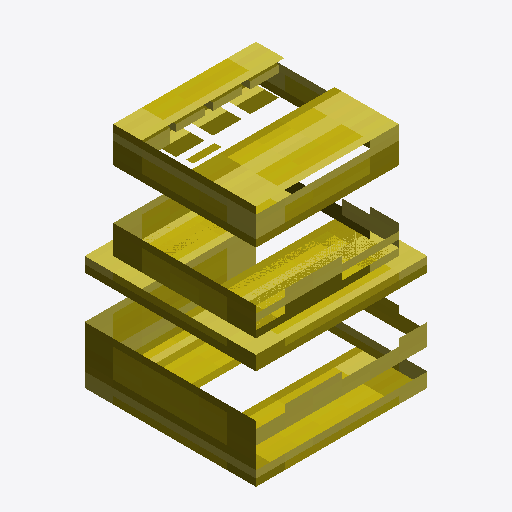
Isometric view (azimuth 45°, elevation 35.3°) of a Minecraft model made of 8 cuboids, textured from the same repository.
Parts seen in each view (by area): shape1, hand, stone_3, stone_2, stone_1.
Part boxes in pixels (x1,y1,x2,y2): shape1: (85, 190, 426, 486); hand: (113, 42, 398, 337); stone_3: (229, 63, 278, 113); stone_2: (192, 85, 241, 134); stone_1: (162, 106, 204, 156).
Bounding box in the file's own units: 6 × 8 × 6.